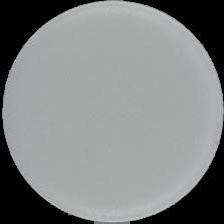51285-100: (0, 0, 224, 224)
